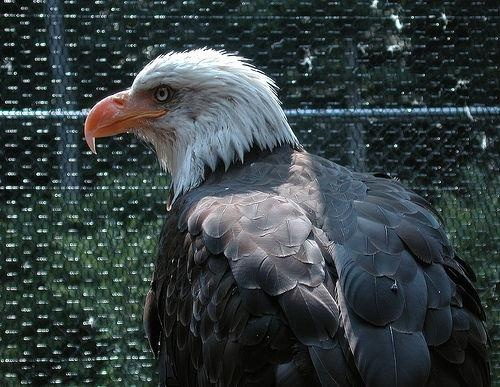bird: (84, 48, 493, 387)
